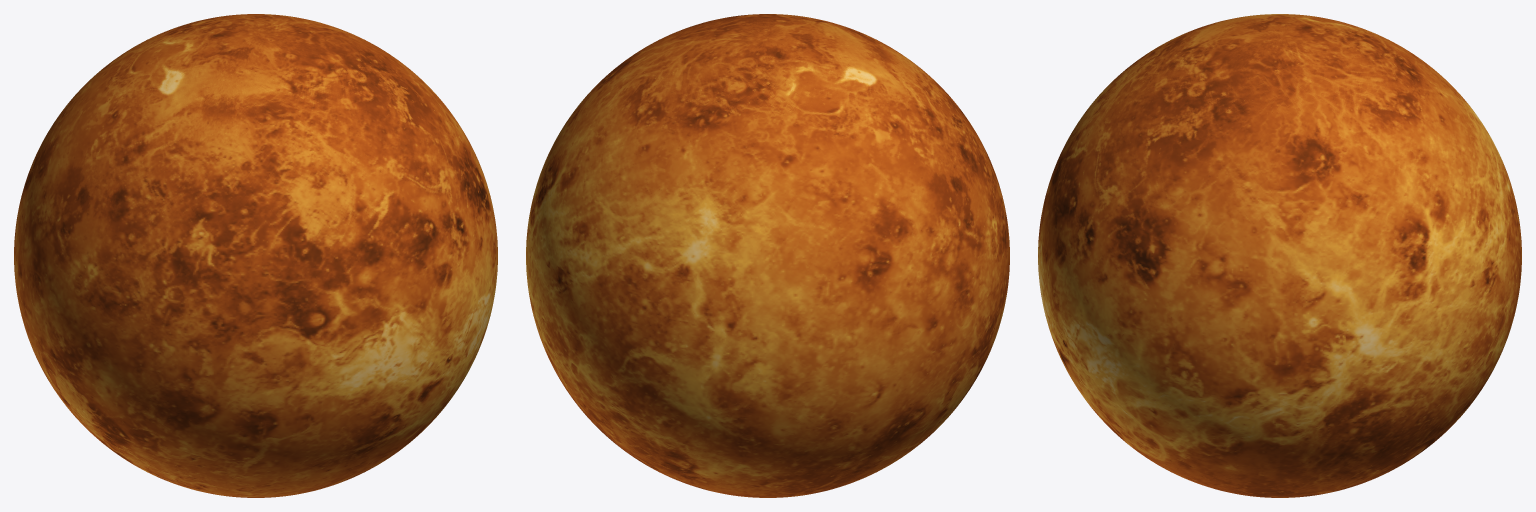
3 renders of one model, left to right at view 1: azimuth 30°, elevation 25°; view 2: azimuth 150°, elevation 25°; view 3: azimuth 270°, elevation 25°, orthographic.
Parts seen in each view (by area): view 1: Venus; view 2: Venus; view 3: Venus.
Boxes of the visible parts, x1,y1,x2,y2 form: Venus: (14, 14, 497, 497); Venus: (526, 14, 1009, 497); Venus: (1038, 14, 1521, 497).
Size of the model in its own units: 2 by 2 by 2.
Materials: 1 (1 with a texture image).
